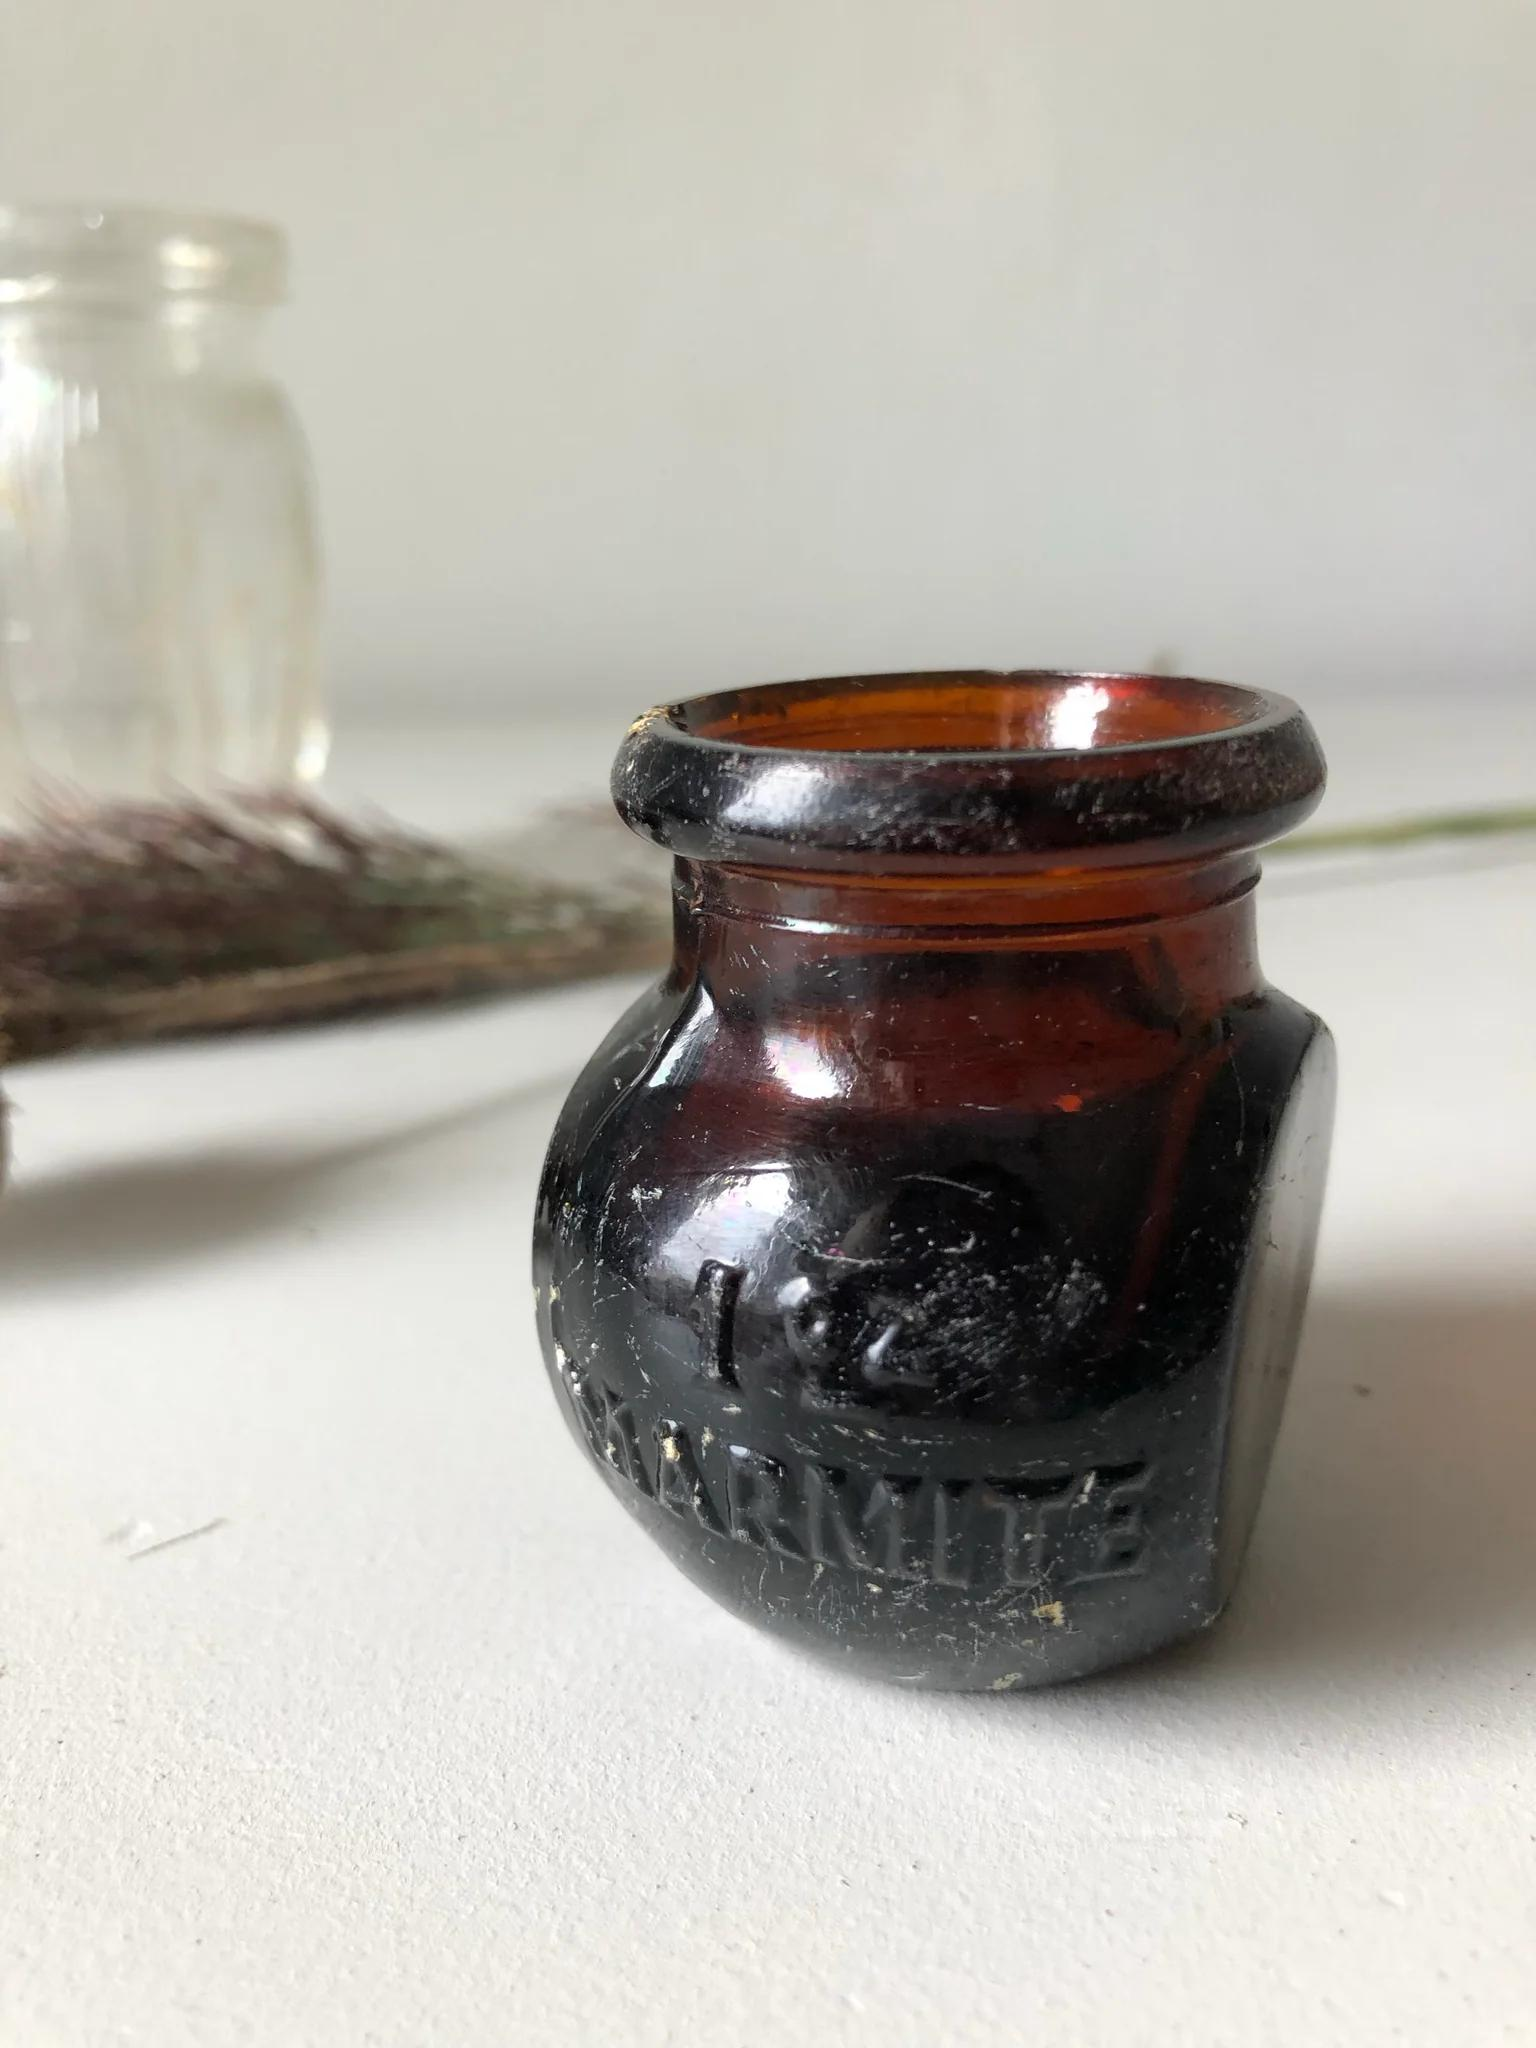glass: (534, 674, 1378, 1688)
